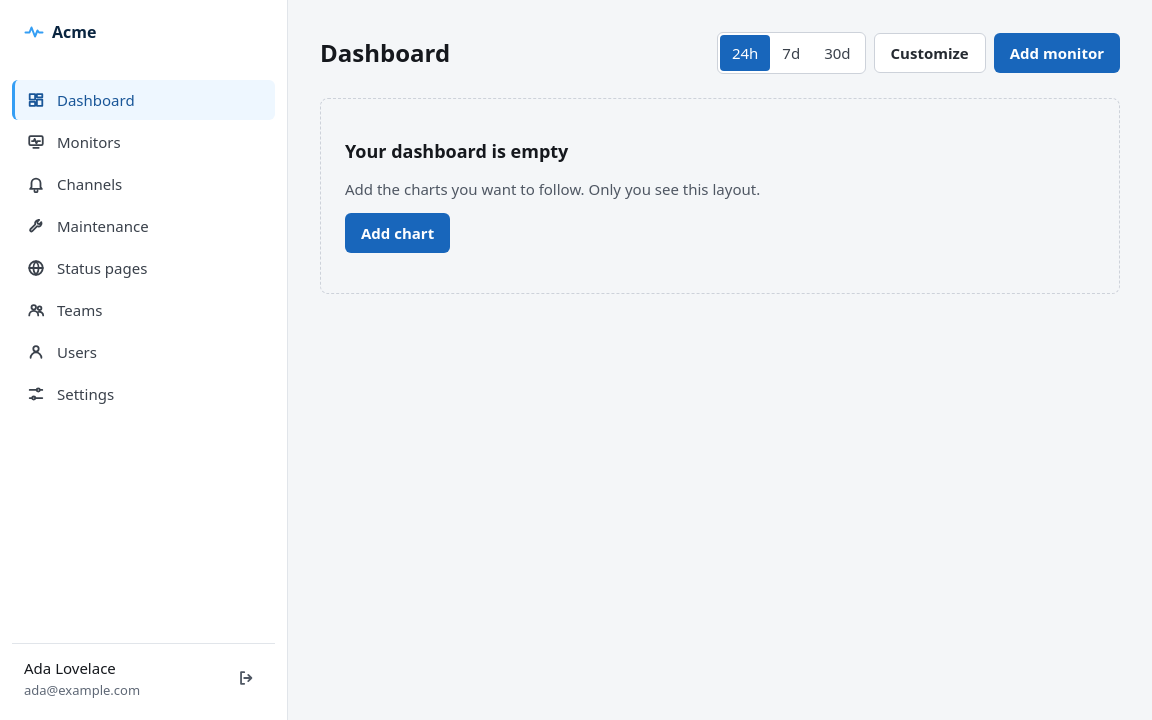
Test: DashboardPage › restores the default layout after confirmation
Expected: the heading "Your dashboard is empty" is shown, left=345, top=139, right=568, bottom=165
Step 1. Click the button "Customize" → (930,53), box left=874, top=33, right=986, bottom=73
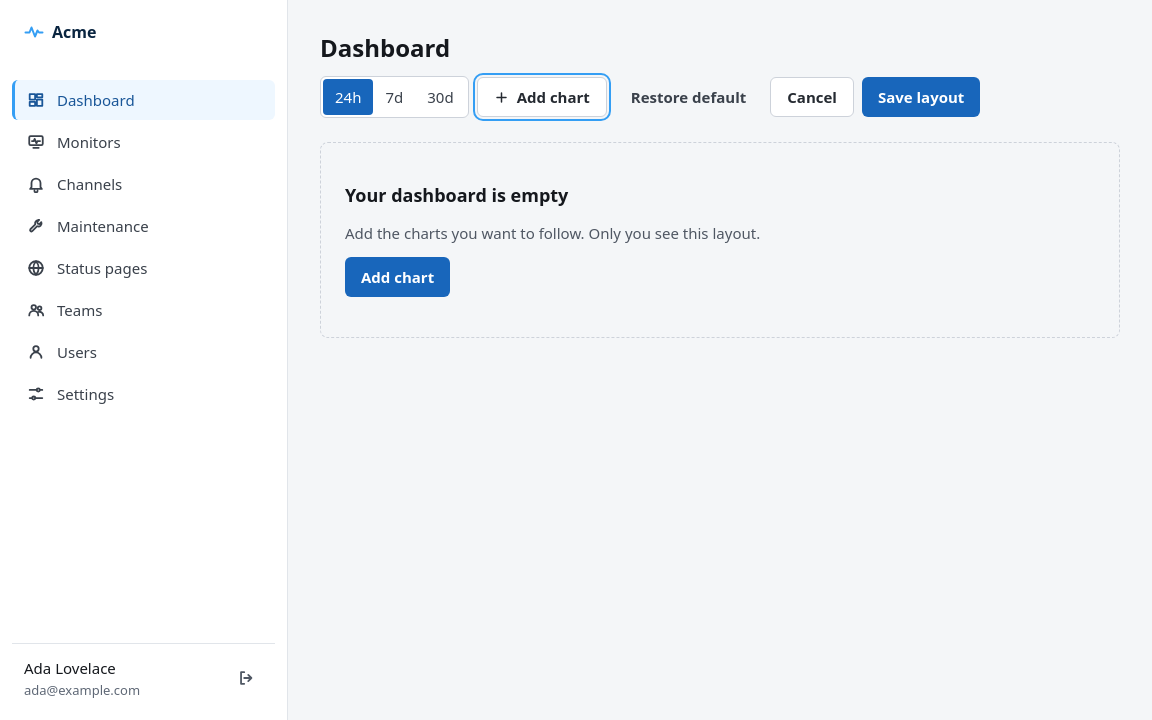
Step 2. Click the button "Restore default" → (689,97), box left=615, top=77, right=762, bottom=117
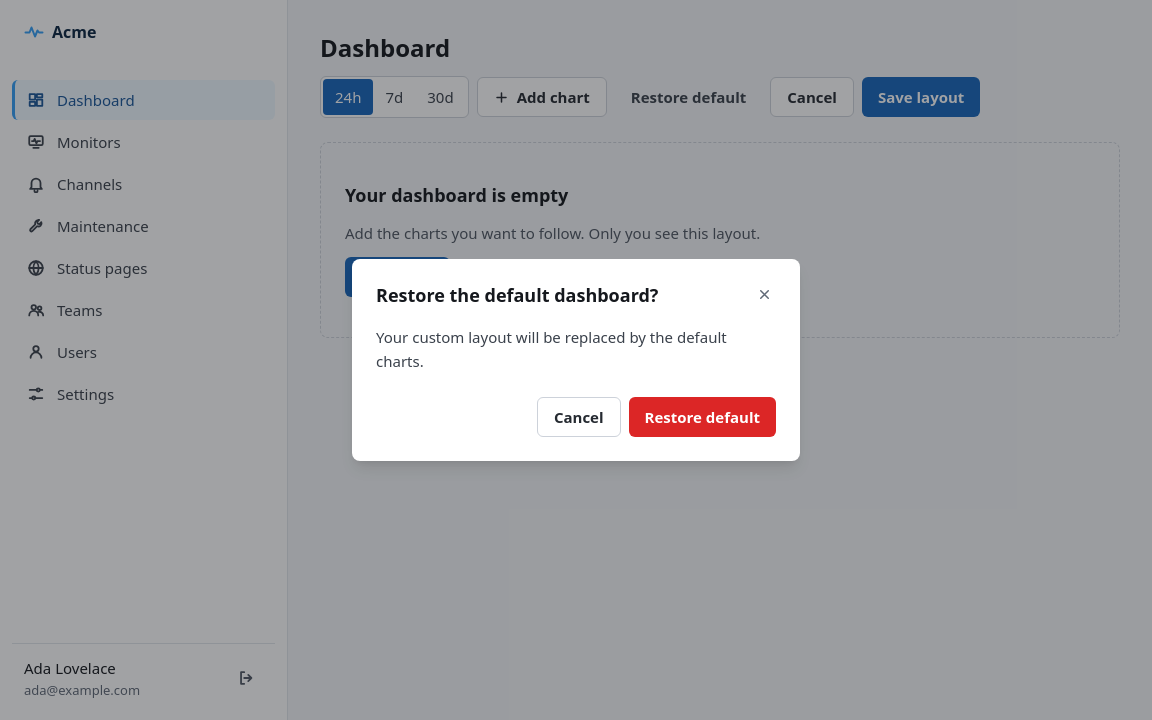
Step 3. Click the button "Restore default" → (702,417), box left=628, top=397, right=776, bottom=437
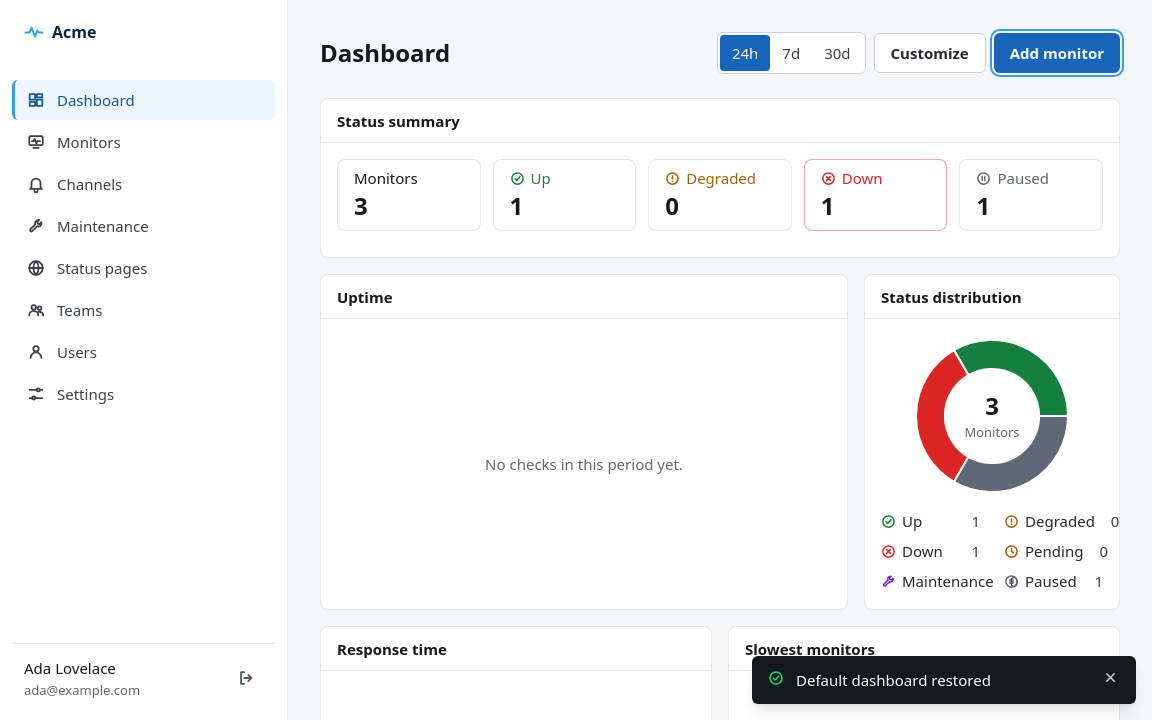
Now the element "Status summary" is shown, box left=320, top=98, right=1120, bottom=258
